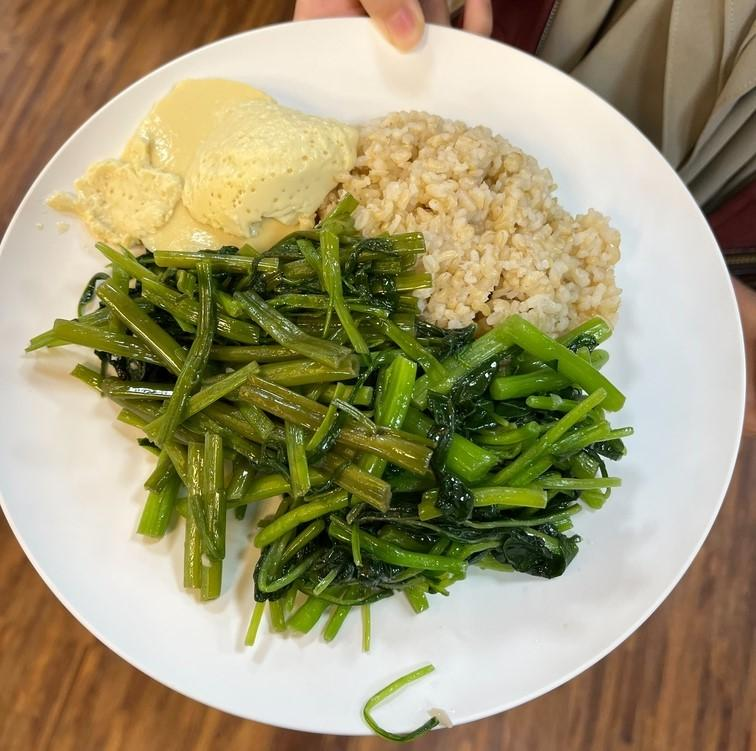big fried chicken leg: (2, 19, 756, 735)
box: (350, 107, 620, 345)
braised fish fillet: (37, 222, 427, 591), (301, 317, 629, 623), (58, 70, 355, 262)
